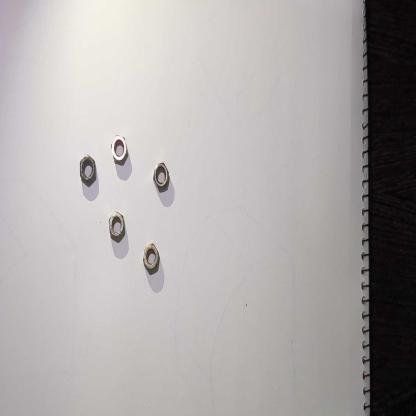NUTS: (77, 151, 97, 190), (107, 207, 127, 244), (152, 158, 171, 194), (142, 240, 161, 276), (110, 132, 130, 166)
